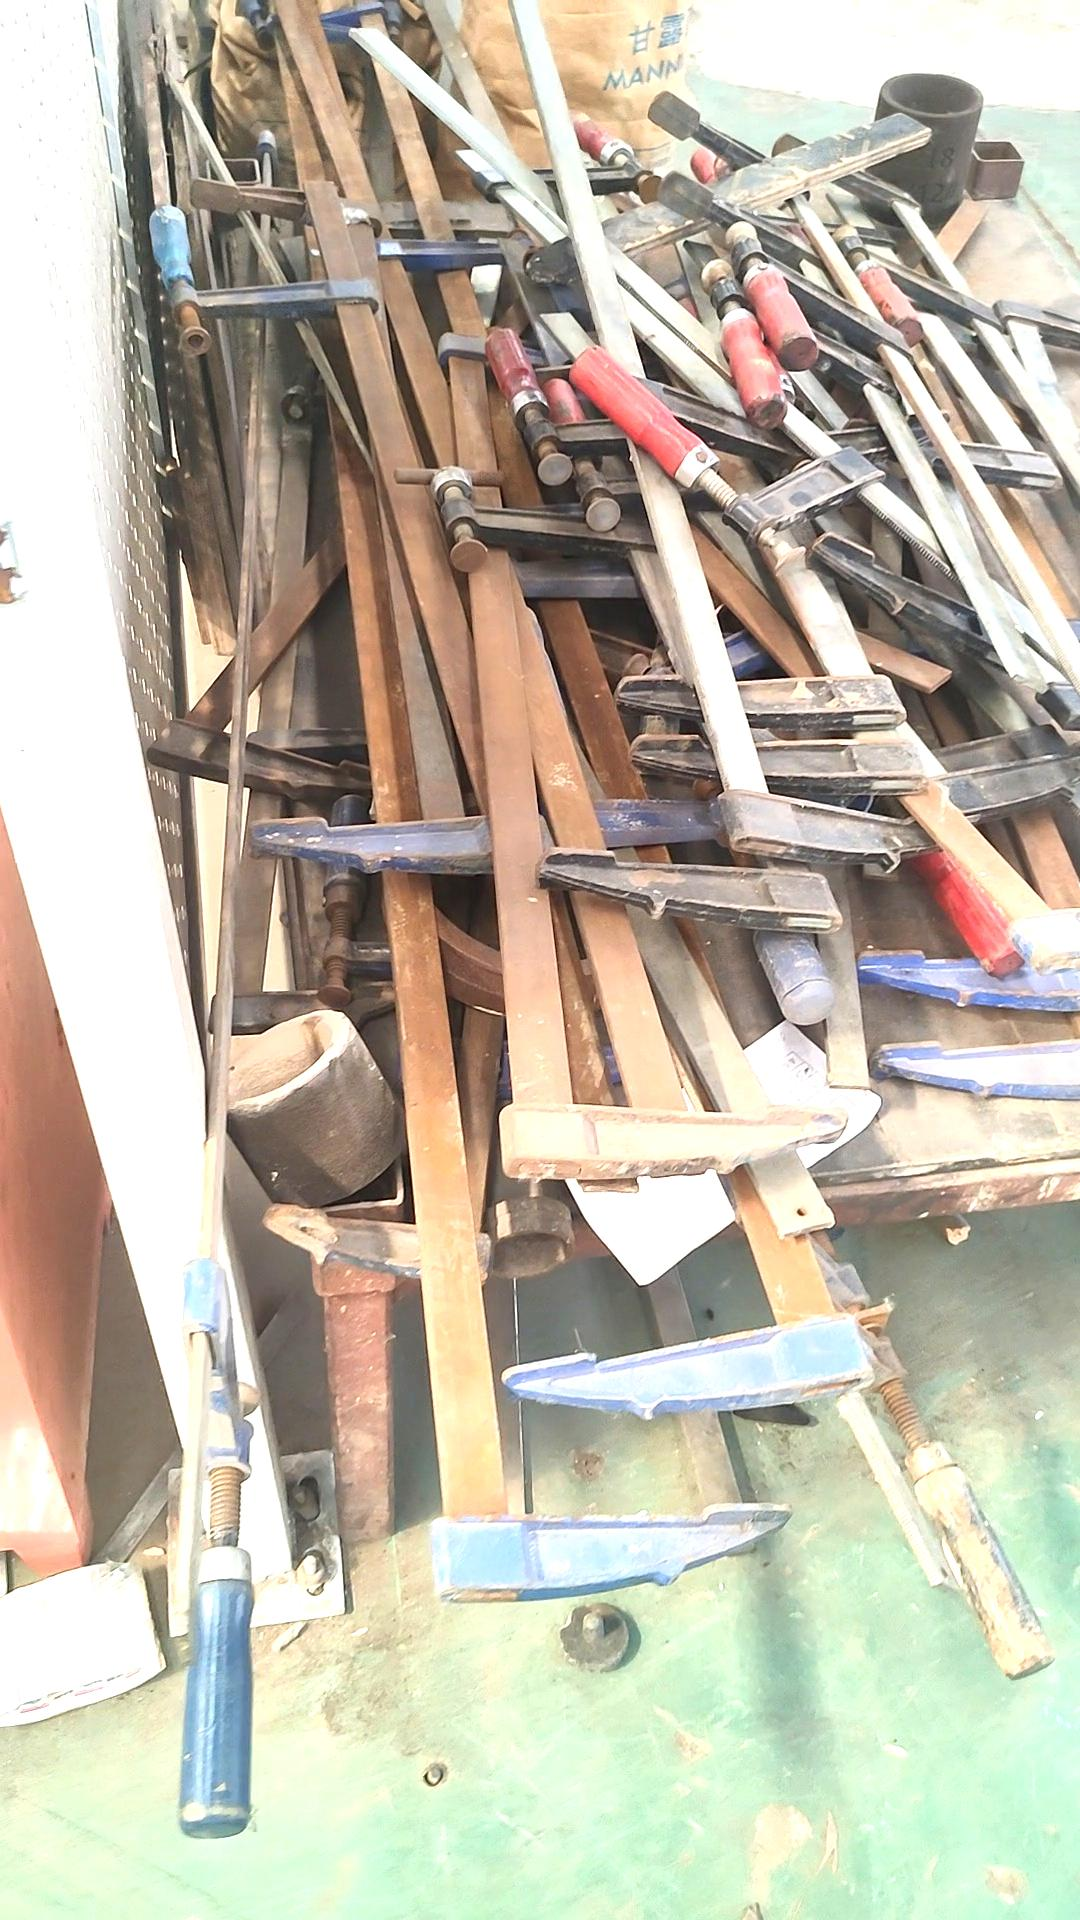pouring hole: (886, 73, 980, 113)
